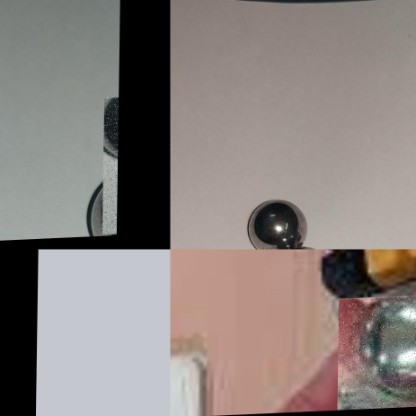ironball: (338, 296, 415, 412), (244, 194, 316, 251), (102, 99, 119, 237)
